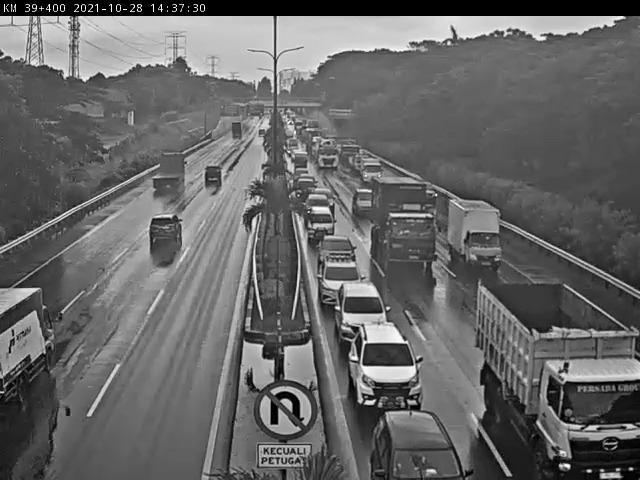big truck: (473, 277, 640, 480), (369, 175, 437, 268), (148, 151, 187, 197)
car: (365, 406, 465, 480), (346, 324, 420, 409), (335, 279, 386, 343), (318, 257, 364, 304), (317, 234, 355, 269), (149, 215, 185, 249), (304, 203, 333, 239), (199, 165, 224, 182)
small truck: (0, 285, 64, 409), (446, 197, 510, 276)
